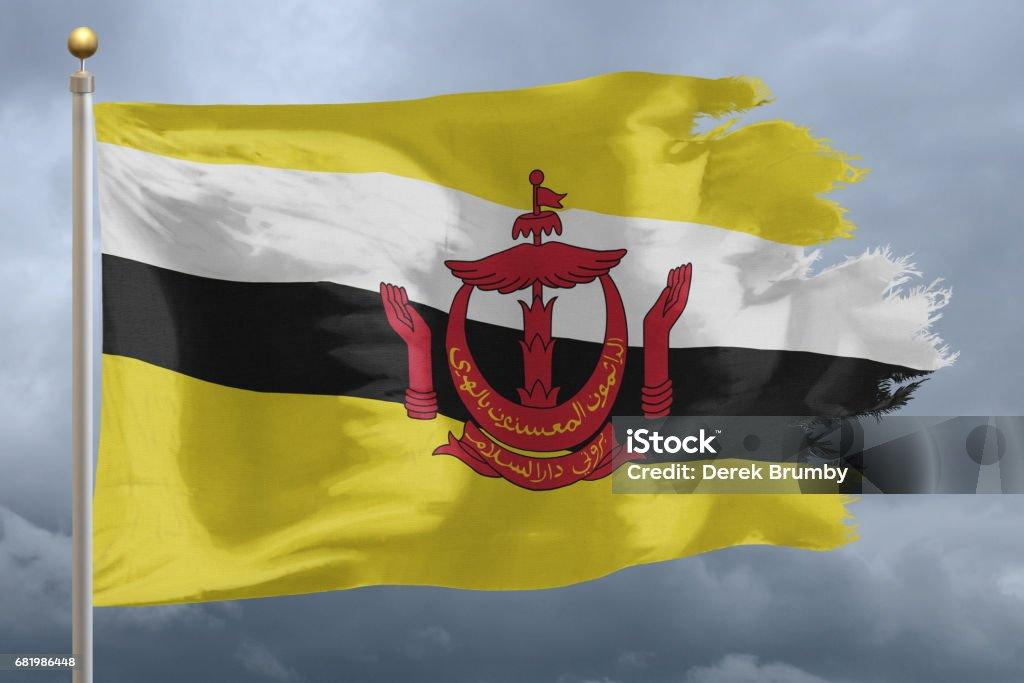Brunei: (87, 65, 954, 609)
